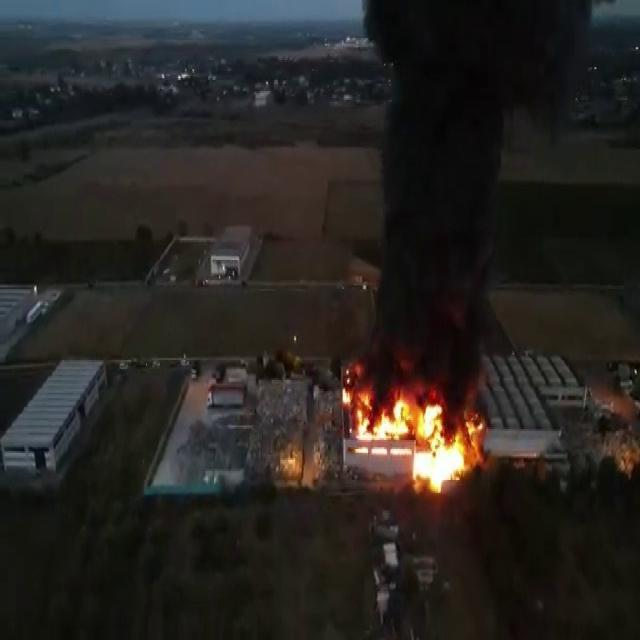Fire: (344, 360, 486, 492)
Smoke: (358, 0, 596, 357)
